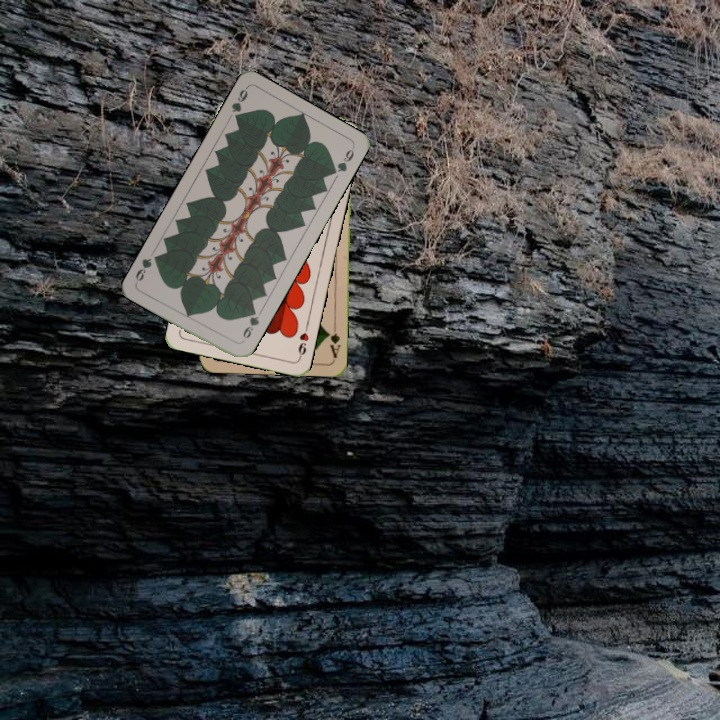G9: (237, 305, 262, 345), (227, 84, 250, 124)
GA: (324, 320, 343, 360)
H9: (294, 321, 311, 361)
